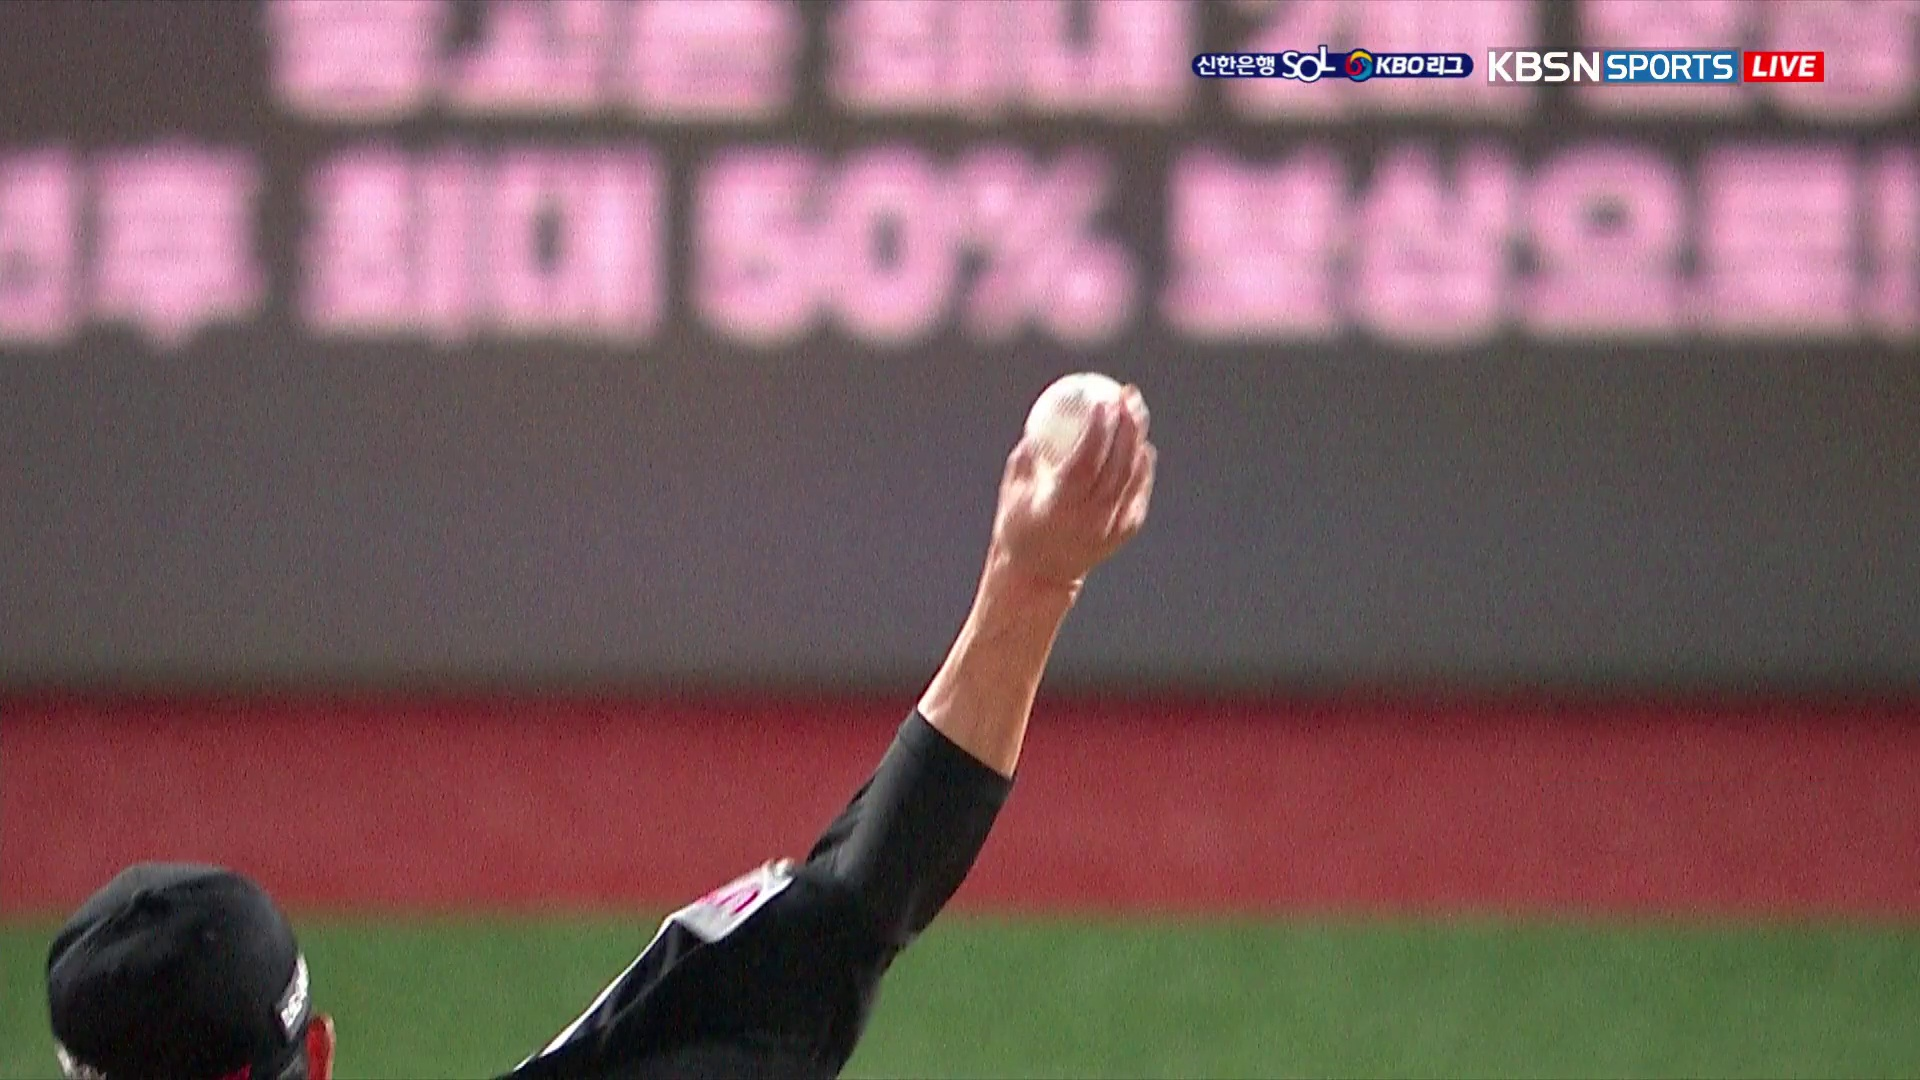zoomin_hand: (774, 364, 1162, 1001)
